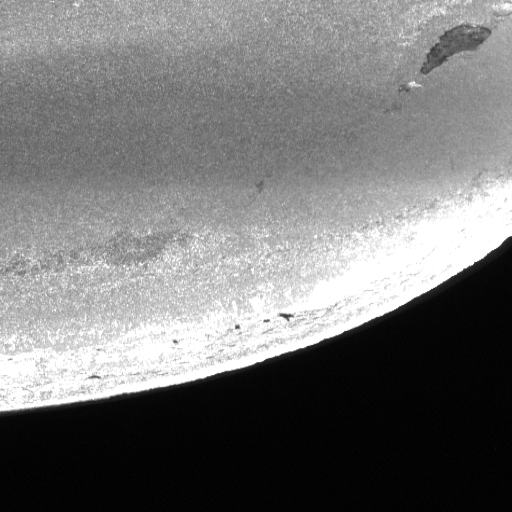aokeng: (402, 20, 493, 96)
